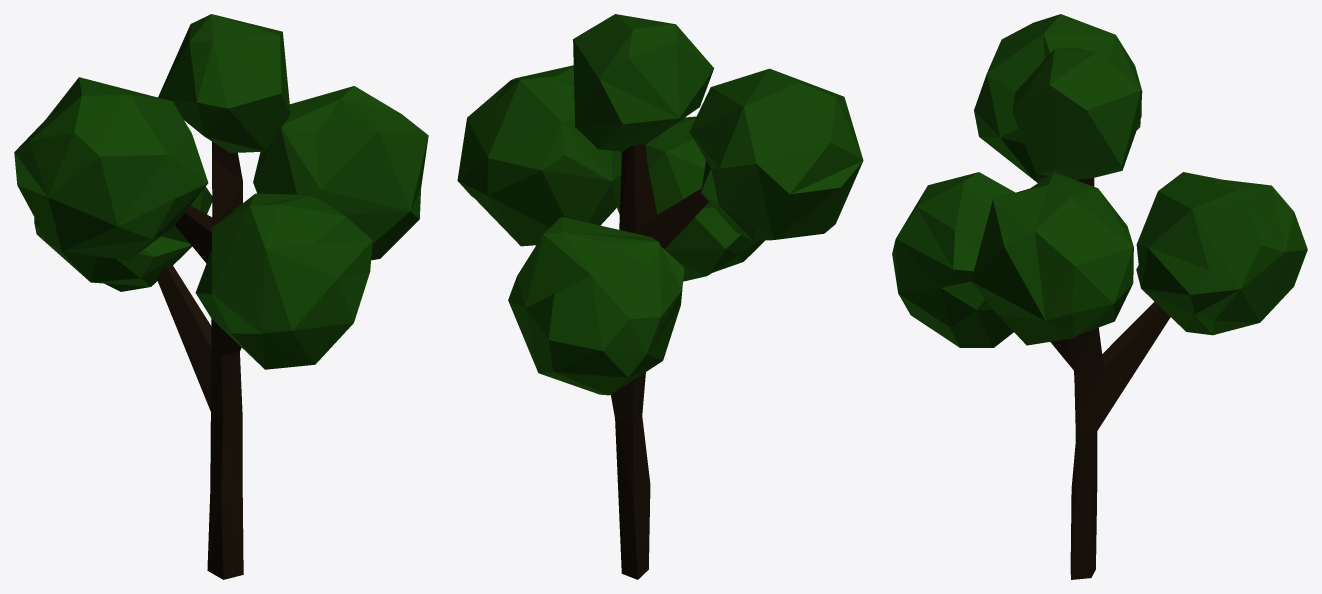
The model's file is tree1_3_00.FBX.
3 renders of one model, left to right at view 1: azimuth 30°, elevation 25°; view 2: azimuth 150°, elevation 25°; view 3: azimuth 270°, elevation 25°, orthographic. The views are drawn at different scales.
Visible parts, largest first — view 1: tree1_3_00; view 2: tree1_3_00; view 3: tree1_3_00.
Boxes of the visible parts, x1,y1,x2,y2 form: tree1_3_00: (14, 14, 428, 579); tree1_3_00: (457, 14, 863, 579); tree1_3_00: (892, 14, 1307, 579).
Size of the model in its own units: 467 by 643 by 467.
